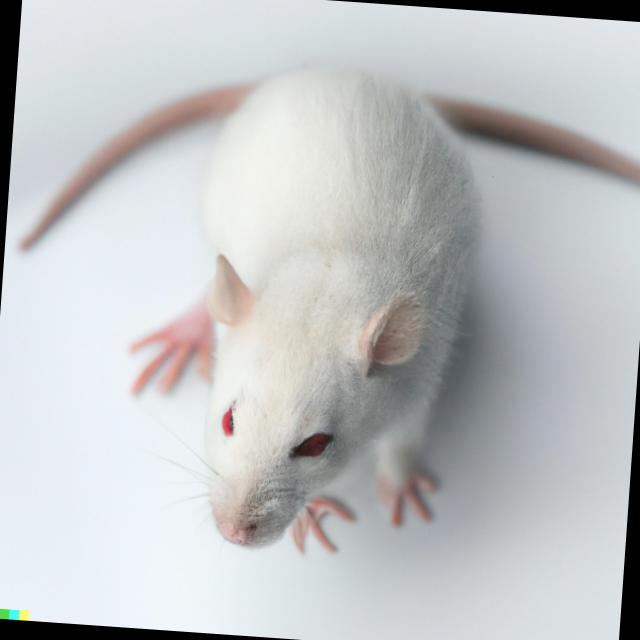rodent: (87, 42, 510, 587)
